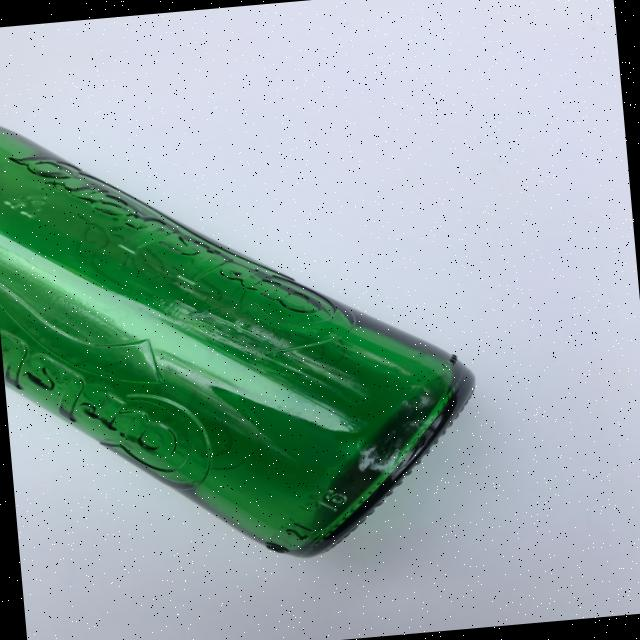glass: (0, 77, 490, 583)
